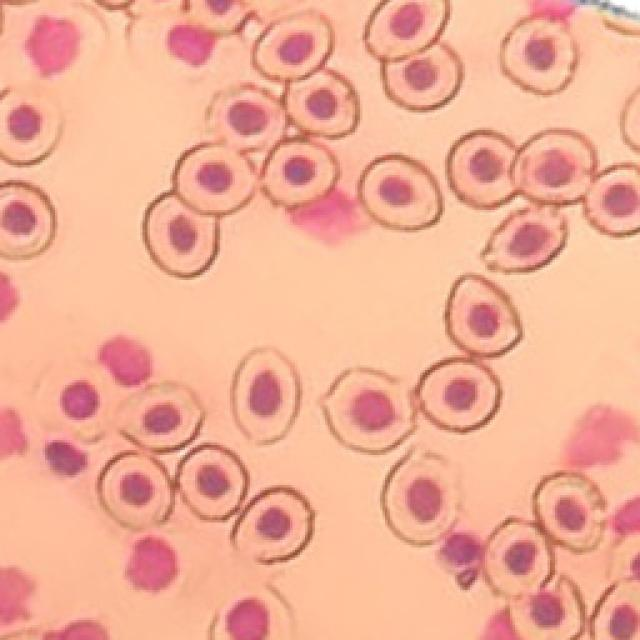RBC: (322, 369, 412, 452), (382, 452, 459, 544), (232, 348, 301, 444), (231, 486, 314, 563), (144, 192, 219, 277), (415, 358, 501, 432), (445, 275, 522, 356), (359, 155, 441, 230), (514, 130, 595, 204), (118, 382, 202, 452), (502, 18, 578, 94), (98, 451, 172, 529), (38, 361, 109, 442), (174, 144, 256, 214), (534, 472, 605, 551), (484, 518, 552, 598), (178, 444, 249, 520), (262, 139, 339, 208), (482, 208, 566, 271), (254, 12, 331, 80), (448, 130, 515, 208), (208, 85, 286, 151), (382, 44, 461, 109), (286, 70, 359, 138), (366, 0, 449, 59), (509, 576, 585, 640), (0, 91, 61, 164), (210, 586, 292, 640), (0, 182, 55, 258), (585, 165, 640, 235), (591, 581, 640, 640), (611, 532, 640, 580)
WBC: (25, 16, 80, 76), (126, 536, 176, 591), (99, 336, 150, 386), (440, 531, 482, 589), (168, 24, 216, 66), (0, 568, 34, 623), (45, 441, 86, 476), (0, 409, 26, 457), (481, 609, 520, 640), (44, 621, 108, 639), (612, 496, 640, 534), (0, 272, 18, 321)
